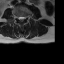CCS_normal: (20, 14, 22, 23)
LFS_normal: (25, 13, 27, 20)
LLS_normal: (22, 14, 25, 22)
RFS_normal: (15, 13, 18, 21)
RLS_normal: (18, 14, 20, 22)
